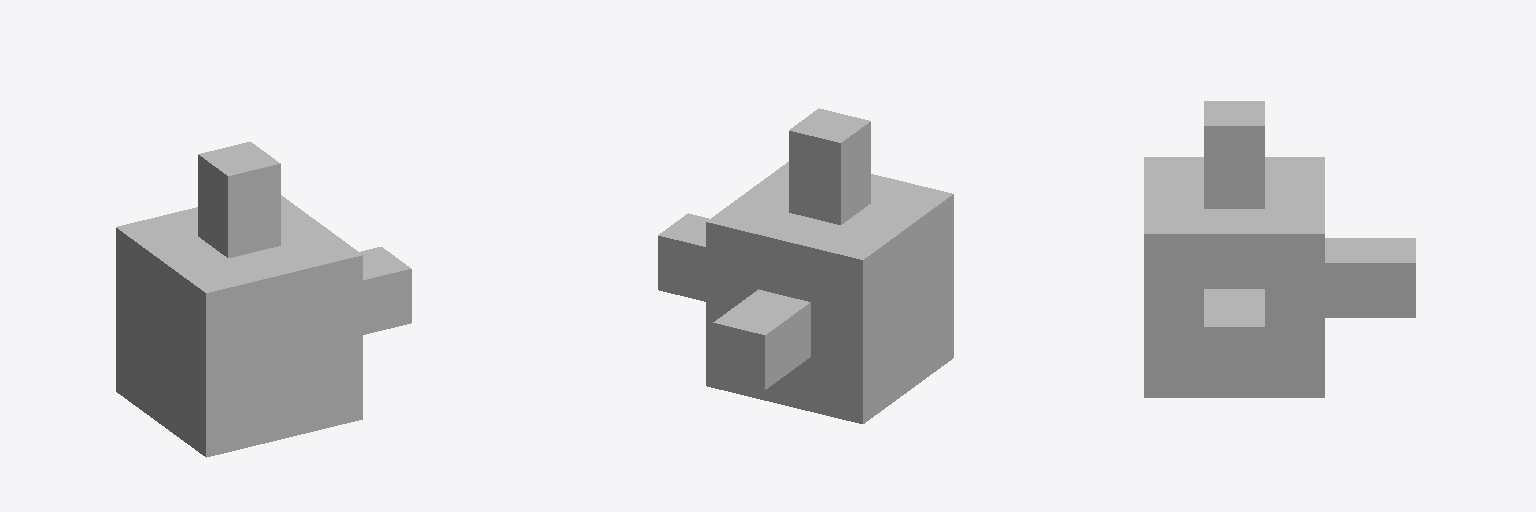
Rendered from testCube.obj.
3 views of the same model, side by side, from view 1: azimuth 30°, elevation 25°; view 2: azimuth 150°, elevation 25°; view 3: azimuth 270°, elevation 25° (orthographic).
Visible parts, largest first — view 1: Cube; view 2: Cube; view 3: Cube.
Boxes of the visible parts, x1,y1,x2,y2 form: Cube: [116, 142, 411, 457]; Cube: [658, 108, 953, 423]; Cube: [1144, 101, 1415, 397].
Bounding box in the file's own units: 3 × 3 × 3.